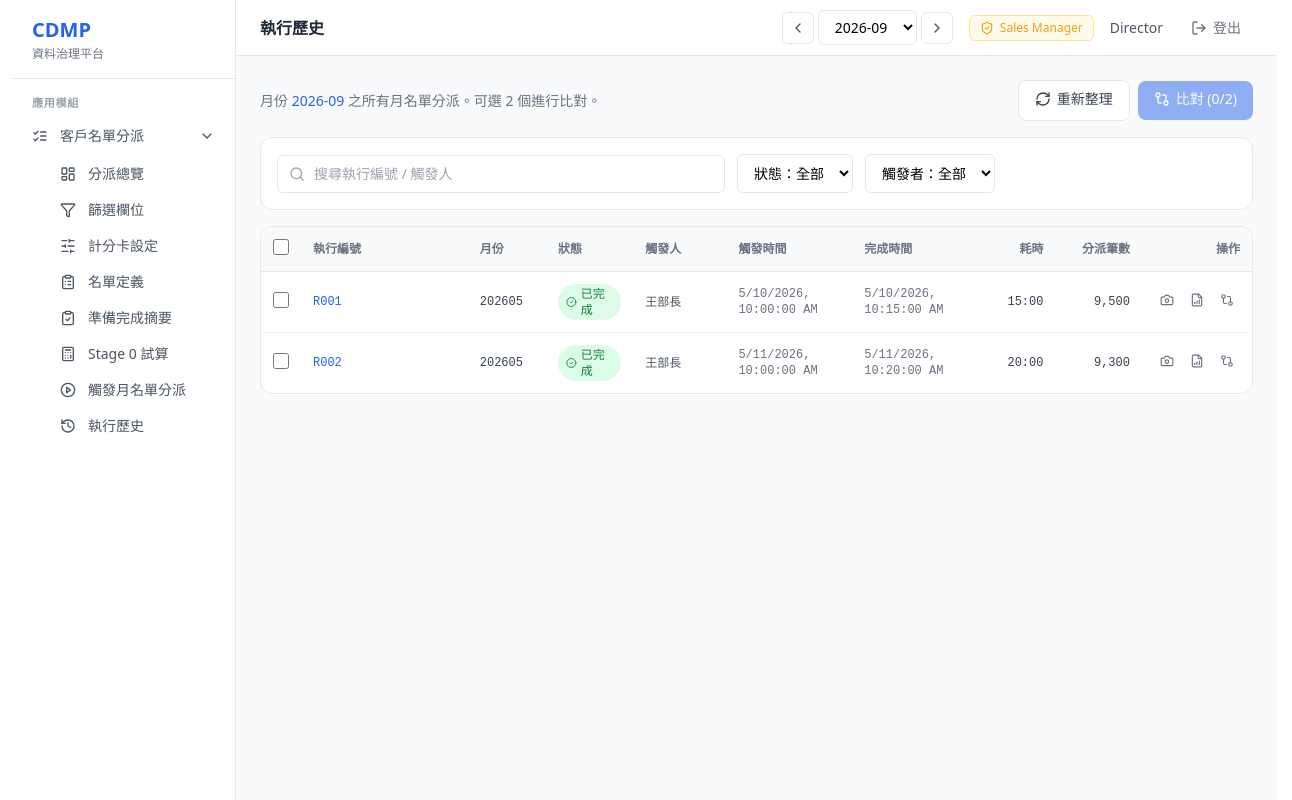
RunHistoryPage (F065) › Phase 3 P2-4 › 全選 checkbox 一次選滿（最多 2 個 completed）
Click the checkbox with test id "checkbox-select-all".
click(281, 247)  # box 273,239 -> 289,255
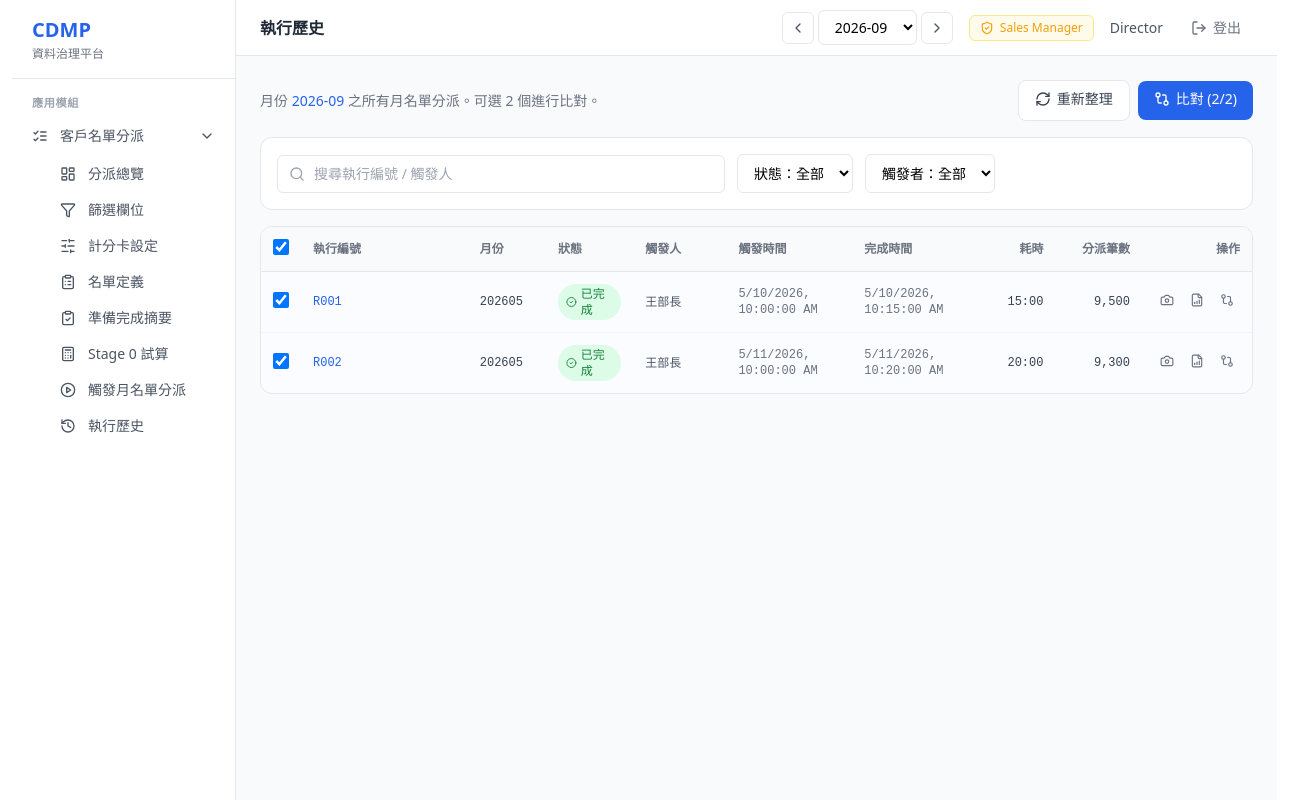
Result: the button with test id "btn-compare-selected" is enabled at 1138,81 -> 1253,120
